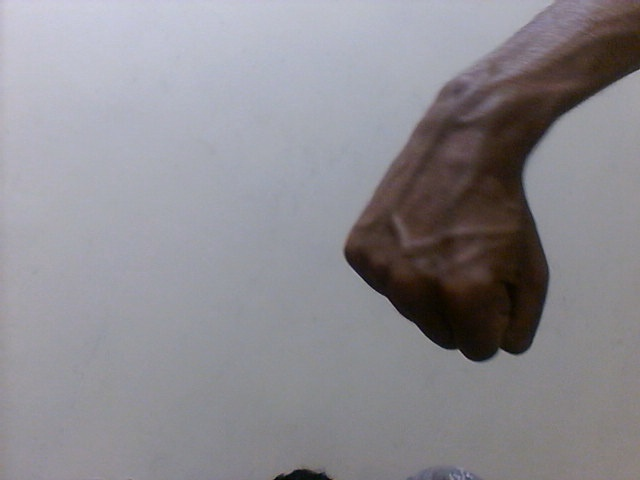hand: (338, 79, 555, 368)
